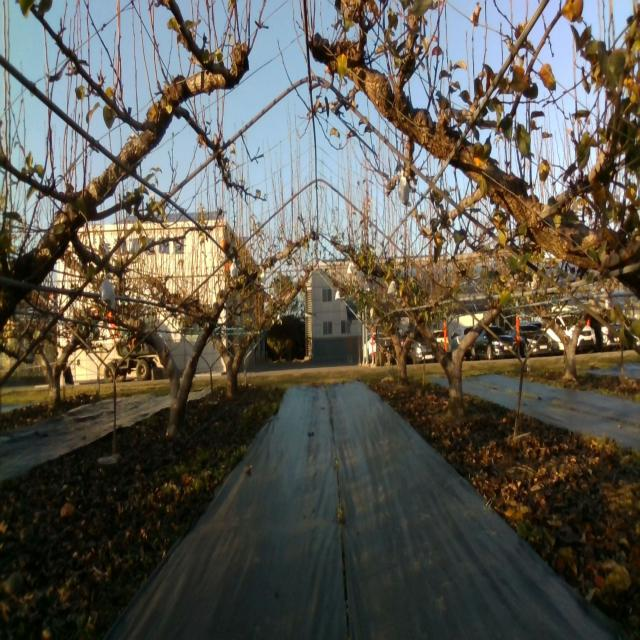pearbags: (100, 272, 116, 310), (397, 170, 409, 210)
